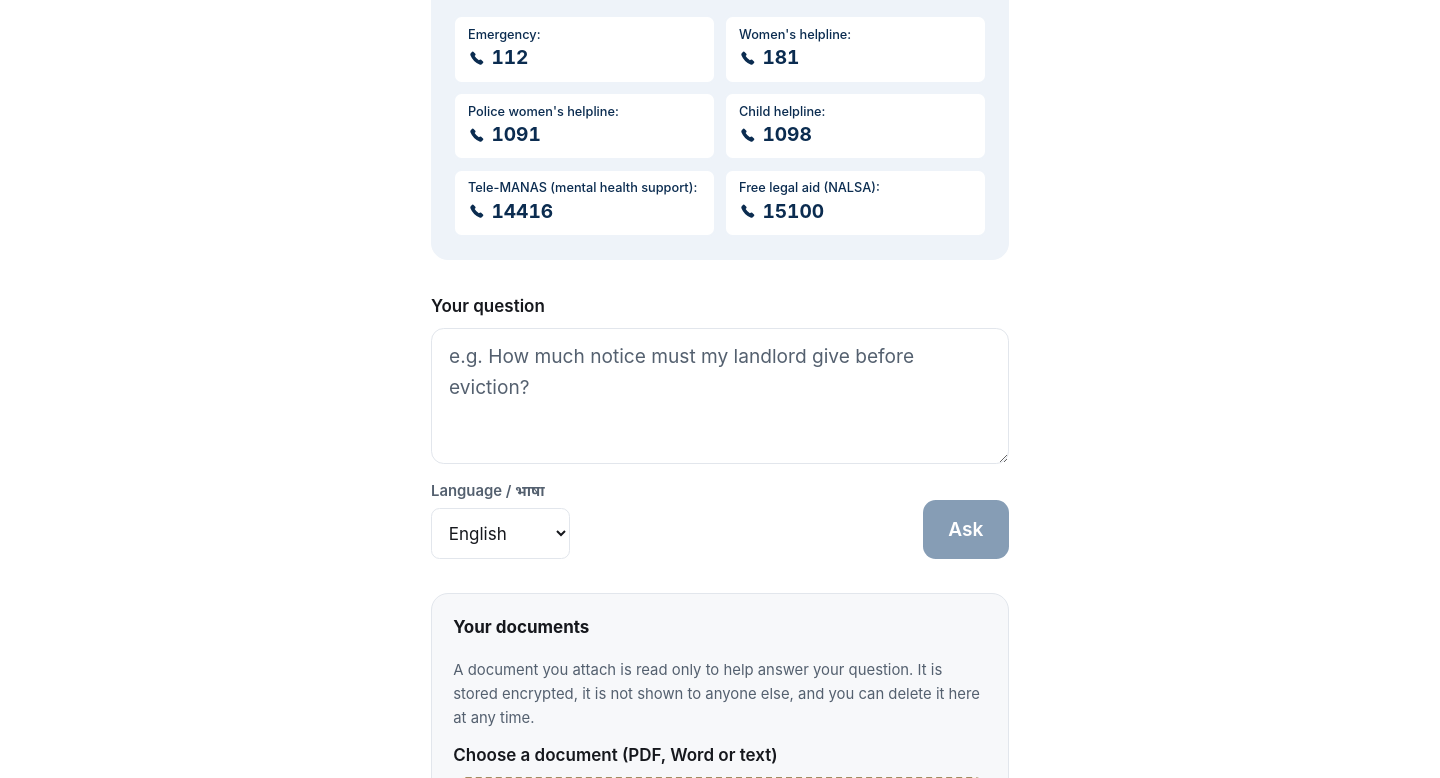
Test: HomePage › defaults to English and sends the selected language explicitly on submit
(page scrolled)
Type "How much eviction notice is required?" into the text box labelled "Your question" at (720, 396), box top-left (431, 328), bottom-right (1009, 464)
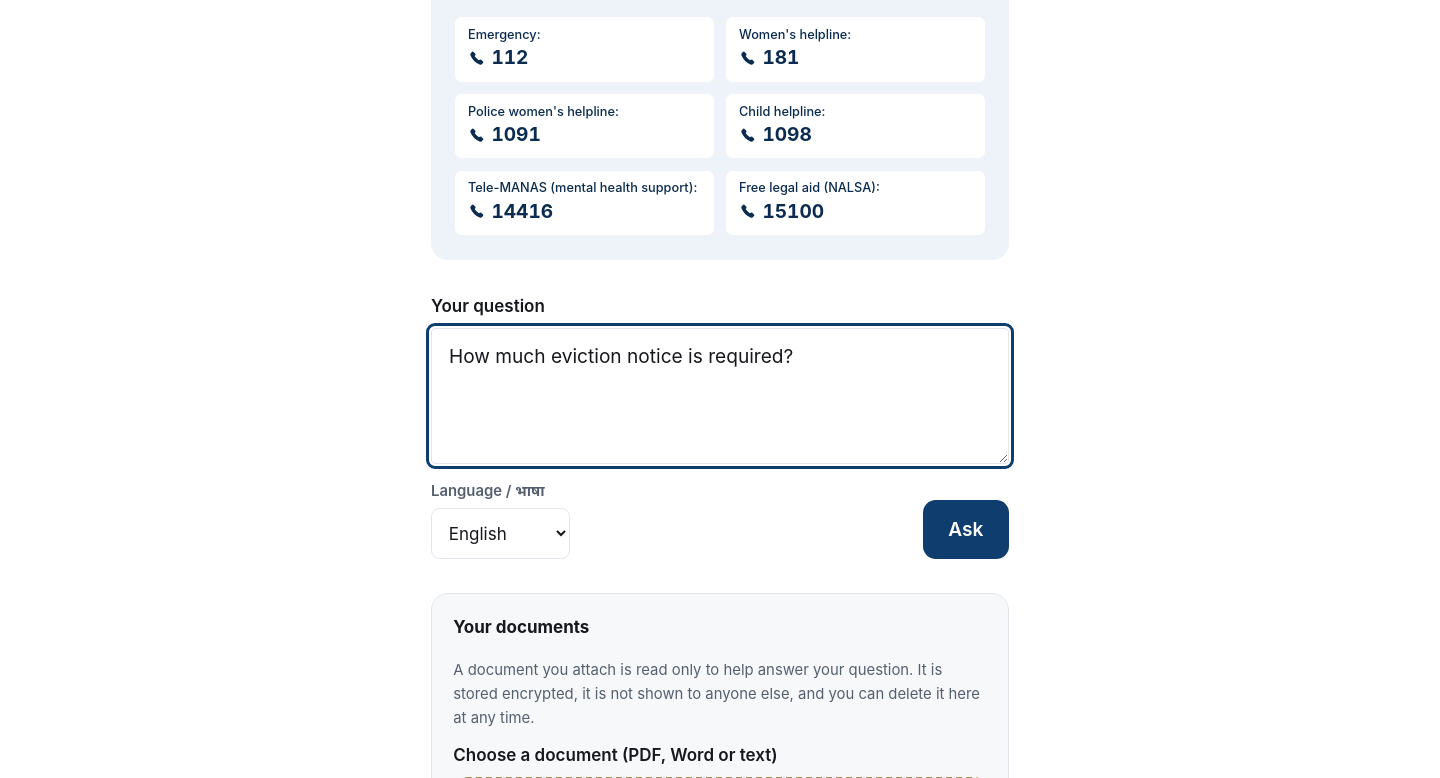
Click the button "Ask" at (966, 529), box top-left (923, 500), bottom-right (1009, 559)
(page scrolled)
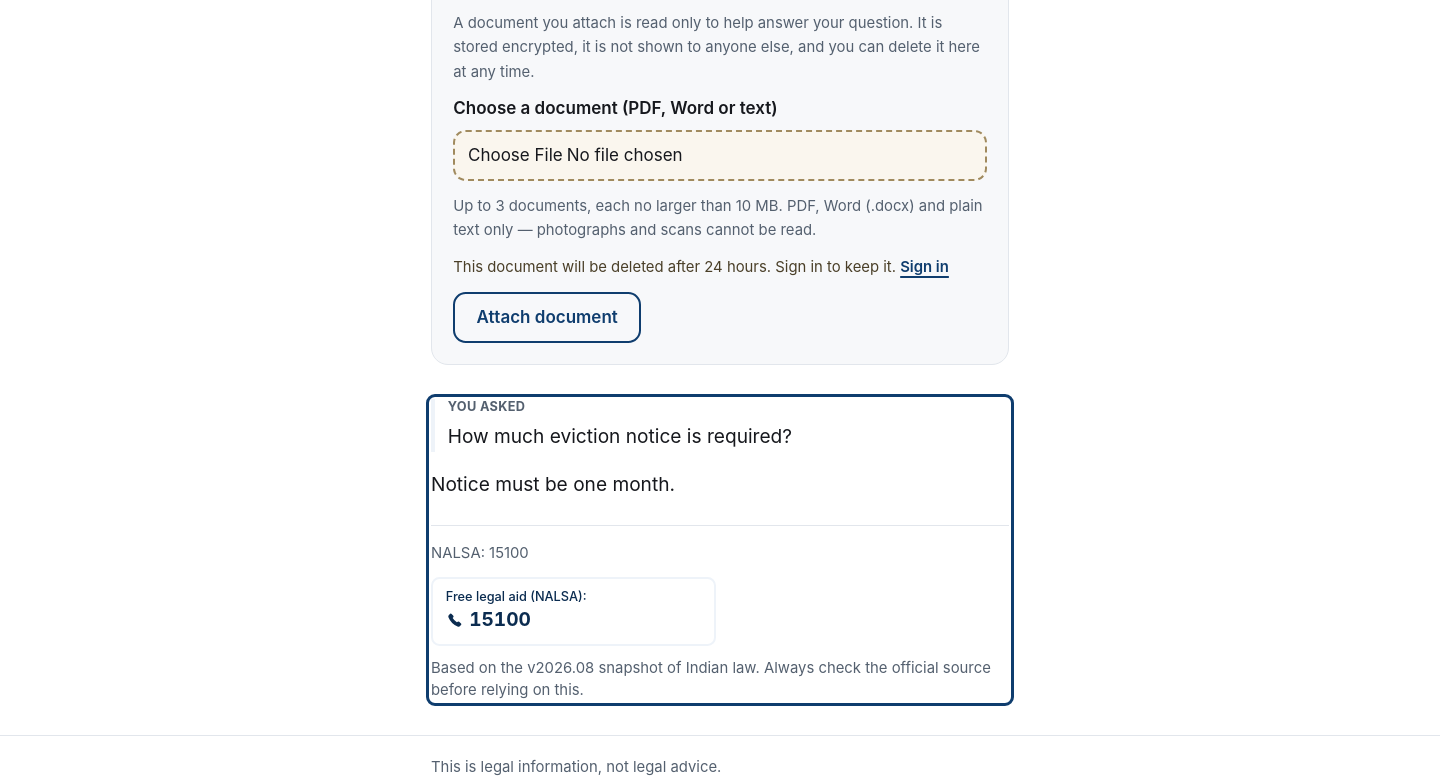
Expected: the text "Notice must be one month." is shown, top-left (431, 472), bottom-right (675, 496)
